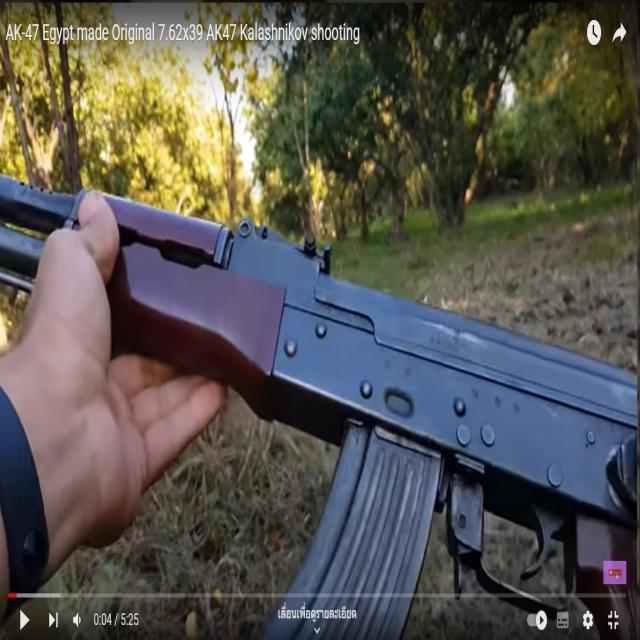ak: (0, 158, 640, 594)
